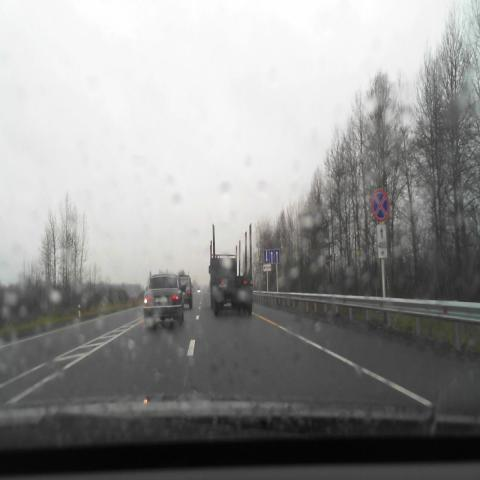5_15_7: (264, 249, 280, 264)
8_2_2: (376, 224, 388, 258)
